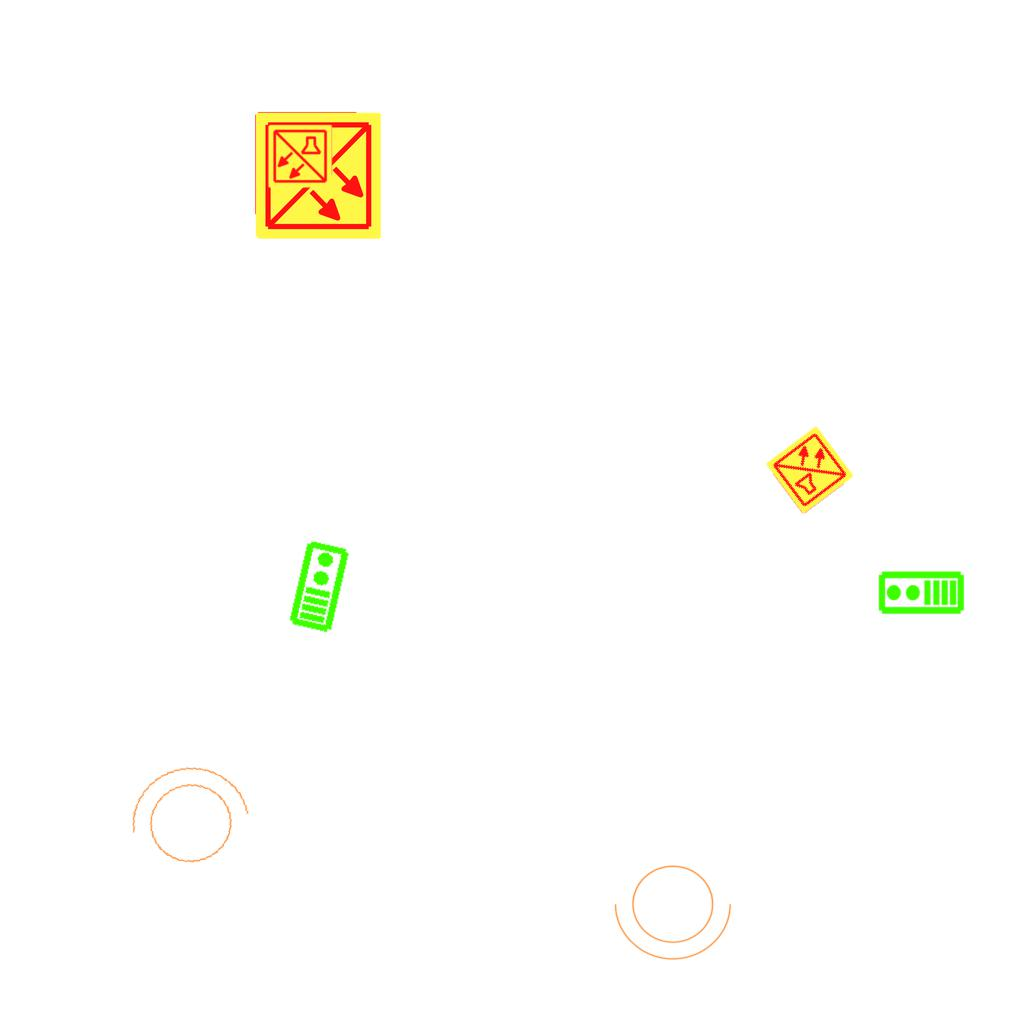Gegensprechanlage_mit_Video: (285, 537, 352, 635), (877, 570, 965, 617)
OKW_Multisensormelder_(Kombination_optischer_Rauch-Kahlenmonoxid_Waerme-Melder): (252, 110, 384, 242), (763, 423, 857, 517), (267, 123, 333, 189)
Scheinwerfer_fuer_Alarmbeleuchtung: (113, 753, 261, 885), (610, 853, 742, 965)
